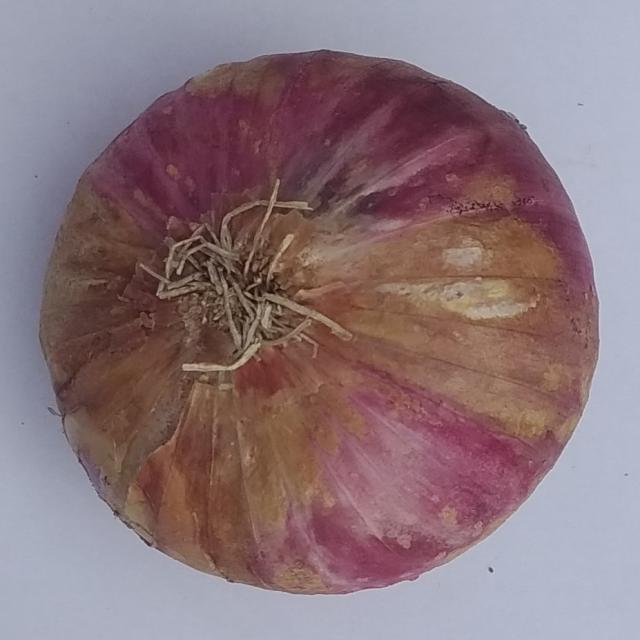onion: (39, 49, 602, 596)
